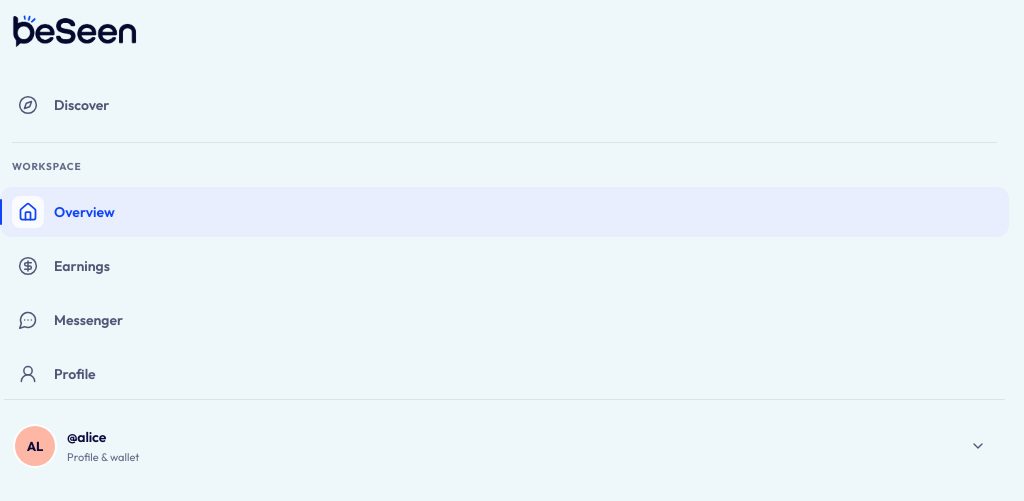
Navigation profile menu › runs wallet actions and closes the menu
What coordinates should you click on to do the following:
click the button "AL @alice Profile & wallet"
I would click on:
 (35, 446)
Its box is x1=4 y1=416 x2=1005 y2=476.
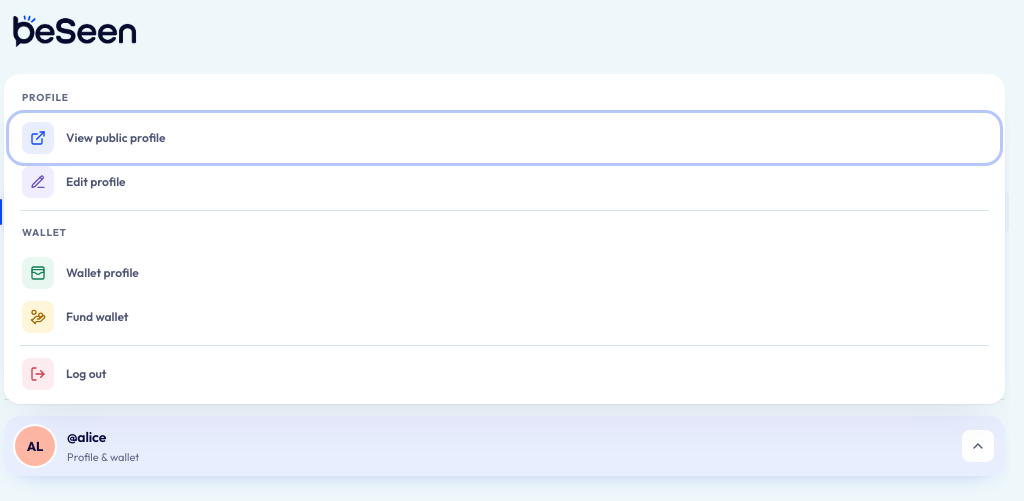
What coordinates should you click on to do the following:
click the menu item "Wallet profile"
I would click on:
 (38, 273)
Its box is x1=12 y1=251 x2=997 y2=295.
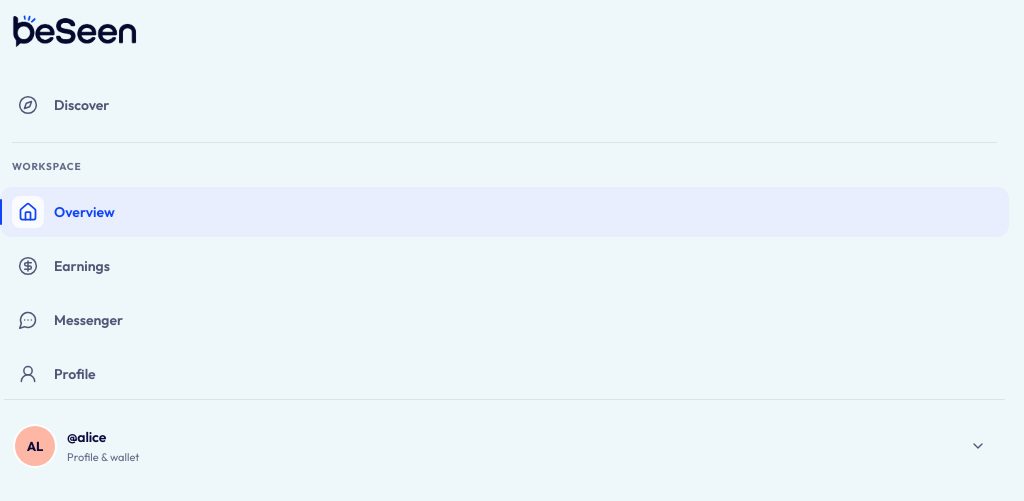
Result: the menu is gone
